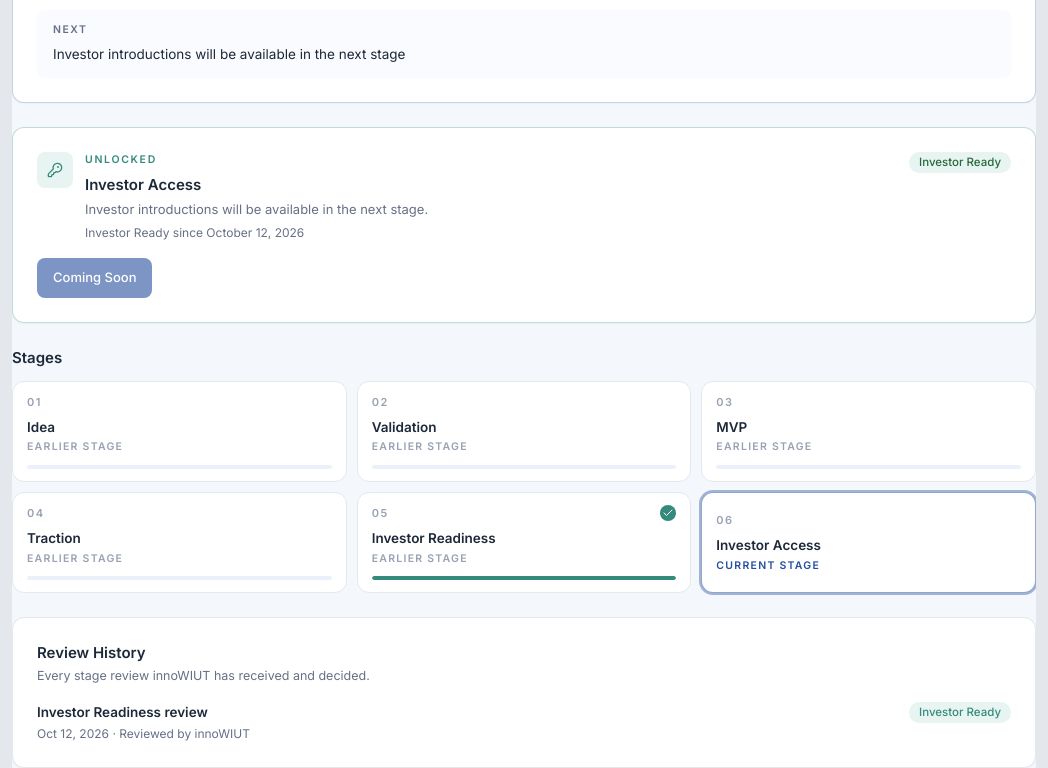
Test: Investor Readiness (founder) › after Investor Ready, shows Investor Access unlocked with Coming Soon only
(page scrolled)
expect the text "Unlocked" is shown: met, box [85, 153, 157, 166]
expect the text "Investor introductions will be available in the next stage." is shown: met, box [85, 200, 428, 220]
// Readiness stays visible read-only.
Click the button "05 Investor Readiness Earlier stage".
click(434, 538)  # box [357, 492, 691, 593]
(page scrolled)
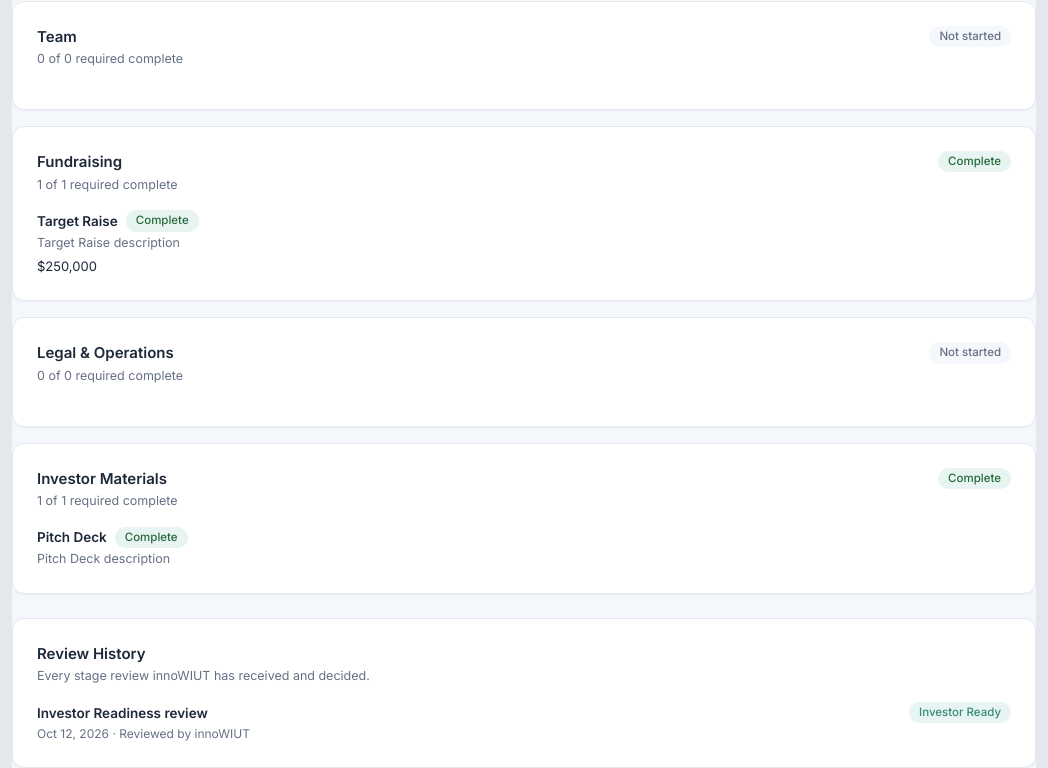
expect the heading "Pitch Deck" is shown: met, box [37, 527, 107, 548]
